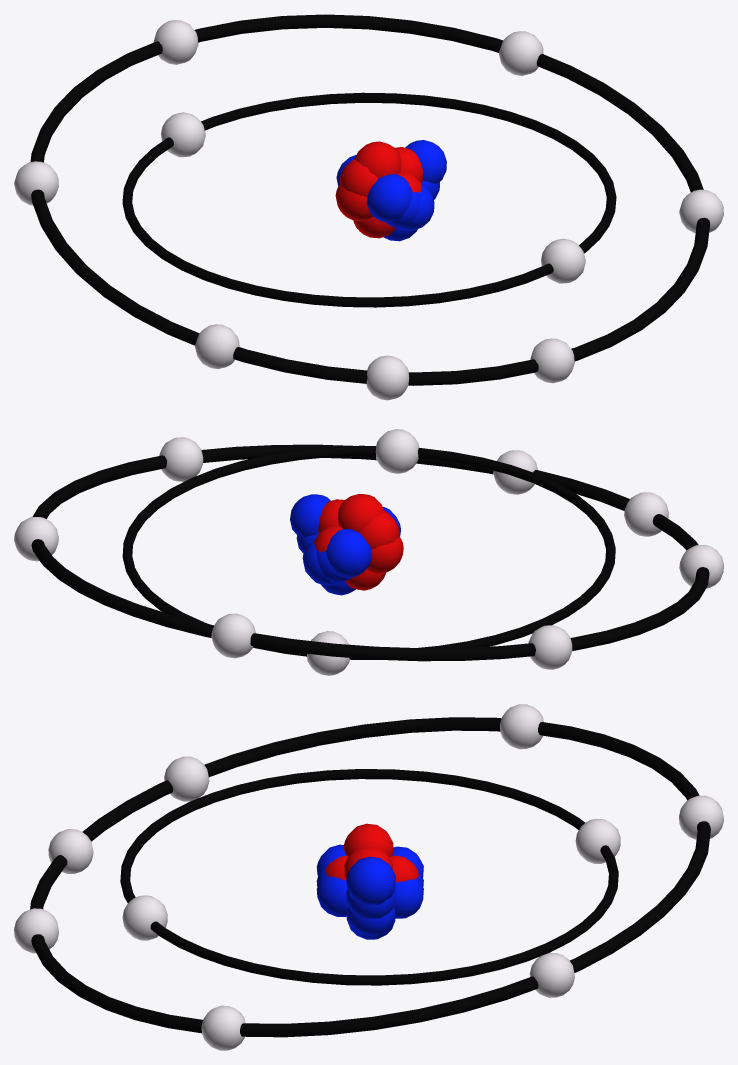
Rendered from 9 Fluor.fbx.
3 views of the same model, one above another, from view 1: azimuth 30°, elevation 25°; view 2: azimuth 150°, elevation 25°; view 3: azimuth 270°, elevation 25° (orthographic).
Parts seen in each view (by area): view 1: Orbita.002, Orbita.001, Sphere.008, Electron.009, Electron.007, Electron.008, Electron.003, Electron.002, Electron.001, Electron.004, Electron.006, Electron.005 (+5 smaller); view 2: Orbita.002, Orbita.001, Sphere, Electron.001, Electron.002, Electron.006, Electron.005, Electron.009, Electron.008, Electron.007, Sphere.014, Sphere.018 (+8 smaller); view 3: Orbita.002, Orbita.001, Sphere.018, Electron.005, Electron.008, Electron.007, Electron.006, Electron.001, Electron.004, Electron.009, Electron.002, Electron.003 (+6 smaller).
Part boxes in pixels (<box>): Orbita.002: <box>30,14,709,385</box>; Orbita.001: <box>122,92,616,307</box>; Sphere.008: <box>366,174,412,222</box>; Electron.009: <box>366,355,409,400</box>; Electron.007: <box>195,324,239,368</box>; Electron.008: <box>499,31,543,75</box>; Electron.003: <box>530,338,574,383</box>; Electron.002: <box>153,20,198,64</box>; Electron.001: <box>541,238,585,283</box>; Electron.004: <box>161,112,205,157</box>; Electron.006: <box>14,161,58,205</box>; Electron.005: <box>679,189,723,233</box>; Orbita.002: <box>31,444,709,661</box>; Orbita.001: <box>122,445,615,659</box>; Sphere: <box>326,528,371,578</box>; Electron.001: <box>375,429,419,473</box>; Electron.002: <box>211,613,255,658</box>; Electron.006: <box>528,625,572,669</box>; Electron.005: <box>159,437,203,481</box>; Electron.009: <box>624,492,668,536</box>; Electron.008: <box>14,517,58,561</box>; Electron.007: <box>679,545,723,588</box>; Sphere.014: <box>338,494,384,532</box>; Sphere.018: <box>290,494,330,537</box>; Orbita.002: <box>30,717,710,1037</box>; Orbita.001: <box>120,769,618,985</box>; Sphere.018: <box>346,856,395,905</box>; Electron.005: <box>201,1005,245,1050</box>; Electron.008: <box>529,952,574,997</box>; Electron.007: <box>164,756,209,801</box>; Electron.006: <box>500,704,543,749</box>; Electron.001: <box>122,895,167,940</box>; Electron.004: <box>575,819,620,863</box>; Electron.009: <box>48,829,93,873</box>; Electron.002: <box>679,795,723,839</box>; Electron.003: <box>14,908,58,953</box>.
Bounding box in the file's own units: 10.59 × 10.29 × 2.15.
